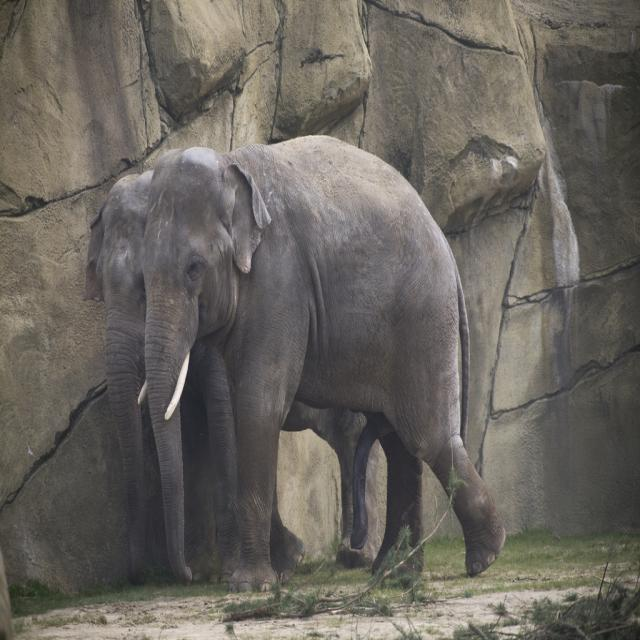elephant: (75, 157, 383, 579)
